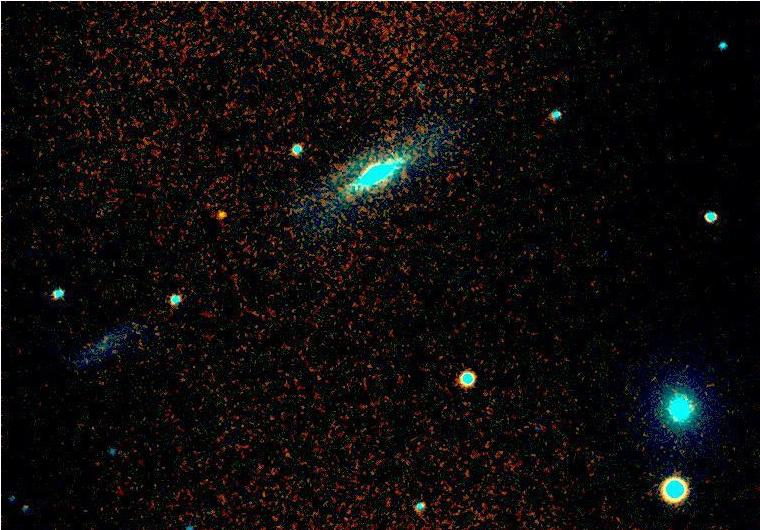star: (208, 201, 238, 231)
